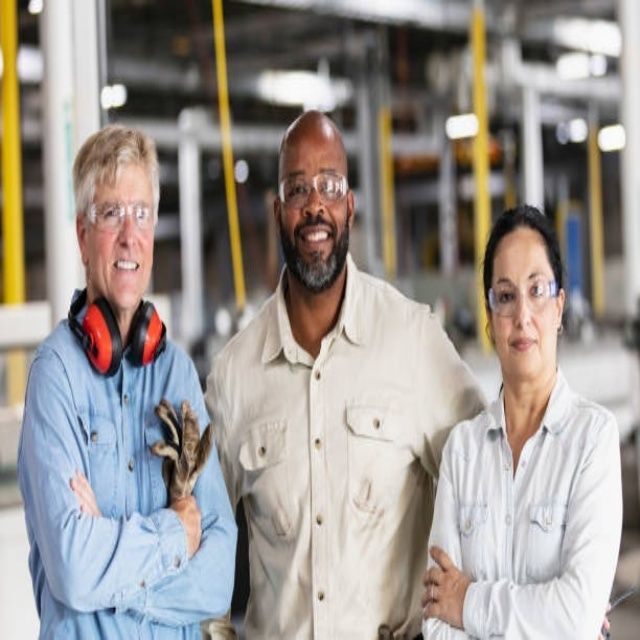Gafas: (279, 171, 351, 208), (487, 279, 558, 316), (85, 200, 157, 231)
Sin_guantes: (420, 537, 474, 626)
Sin_mascara: (297, 220, 337, 267), (108, 249, 141, 294), (506, 328, 541, 370)
